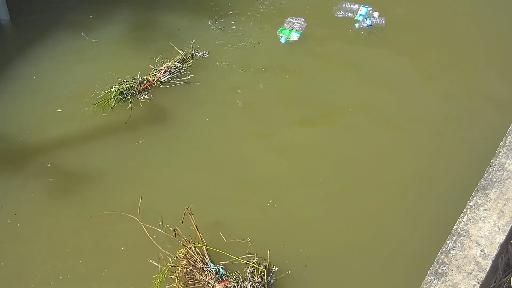plastic: (333, 14, 398, 33), (268, 15, 311, 42), (325, 5, 384, 19)
twig: (104, 195, 298, 288), (86, 30, 211, 106)
